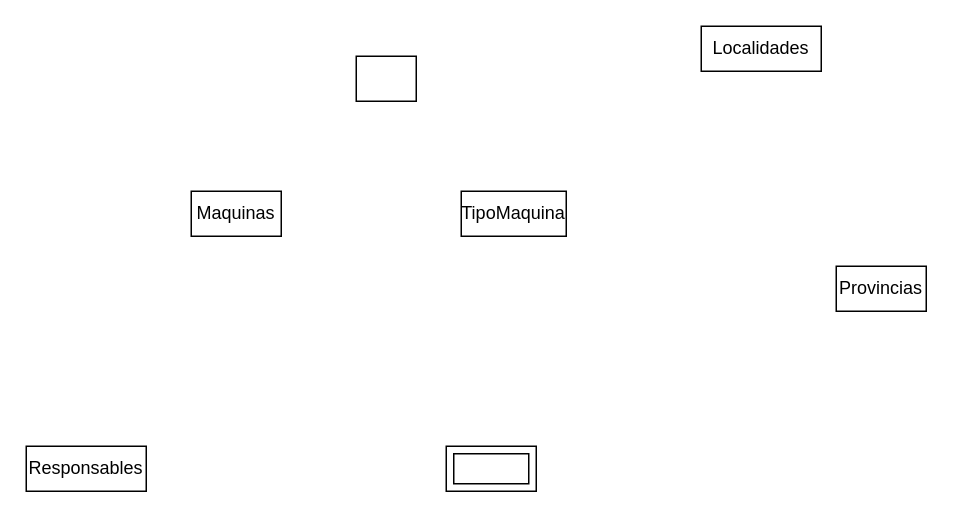
This 953x518 diagram has some shape labels left out. The centre of each missing label's shape, as x and y in pixels:
"Obras" goes at point 385,78.
"Reserva" goes at point 490,468.
